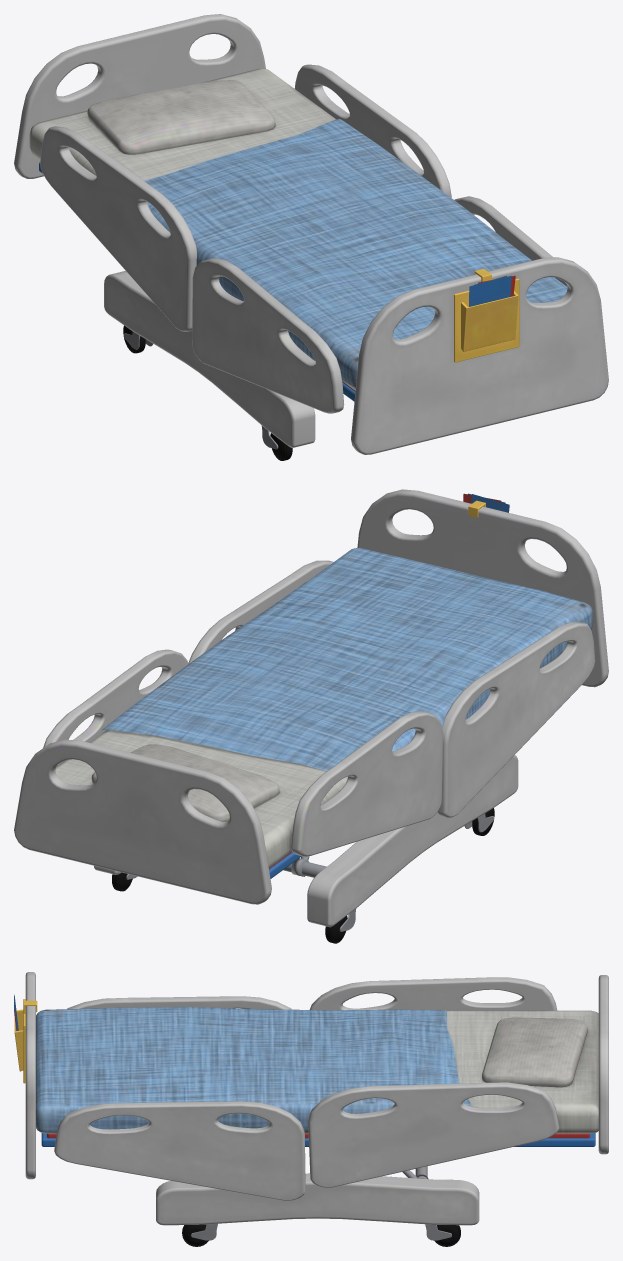
The model's file is hs_bed.glb.
The picture shows the model from 3 angles, top to bottom: view 1: azimuth 30°, elevation 25°; view 2: azimuth 150°, elevation 25°; view 3: azimuth 270°, elevation 25°; orthographic projection. The views are drawn at different scales.
Visible parts, largest first — view 1: Bed; view 2: Bed; view 3: Bed.
Part boxes in pixels (x1=…): Bed: x1=14, y1=14, x2=608, y2=460; Bed: x1=14, y1=489, x2=608, y2=943; Bed: x1=14, y1=972, x2=608, y2=1246.
Bounding box in the file's own units: 1.42 × 1.18 × 3.21.
Materials: 1 (1 with a texture image).
